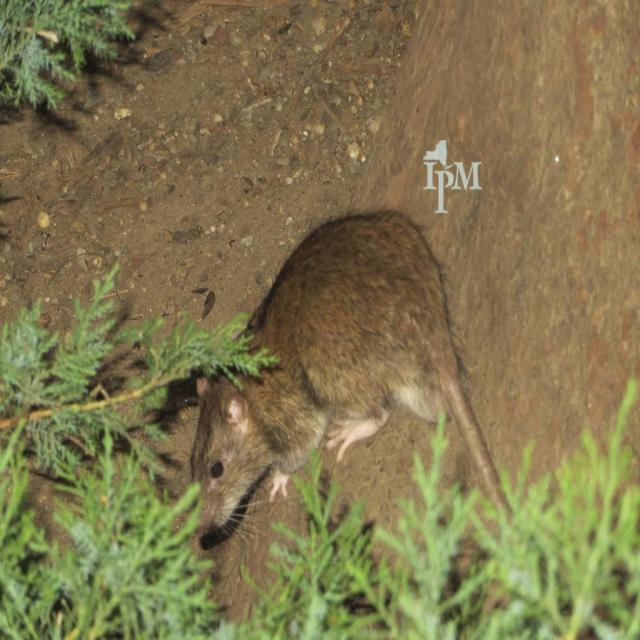rat: (189, 206, 513, 532)
